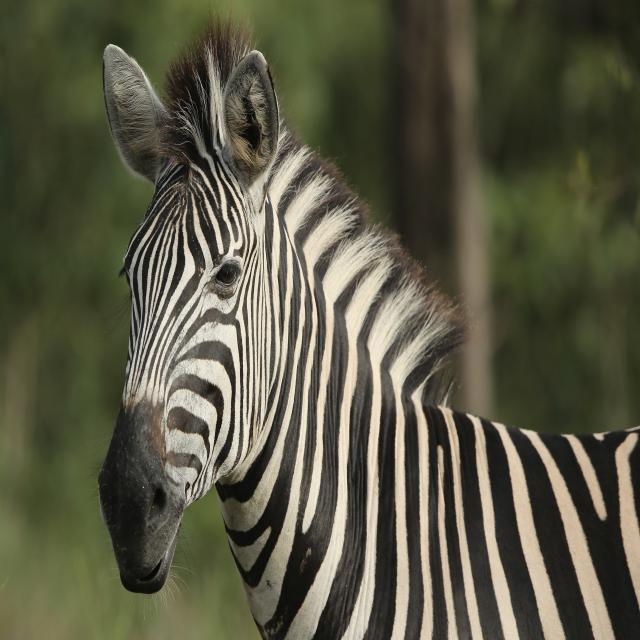zebra: (99, 17, 640, 640)
